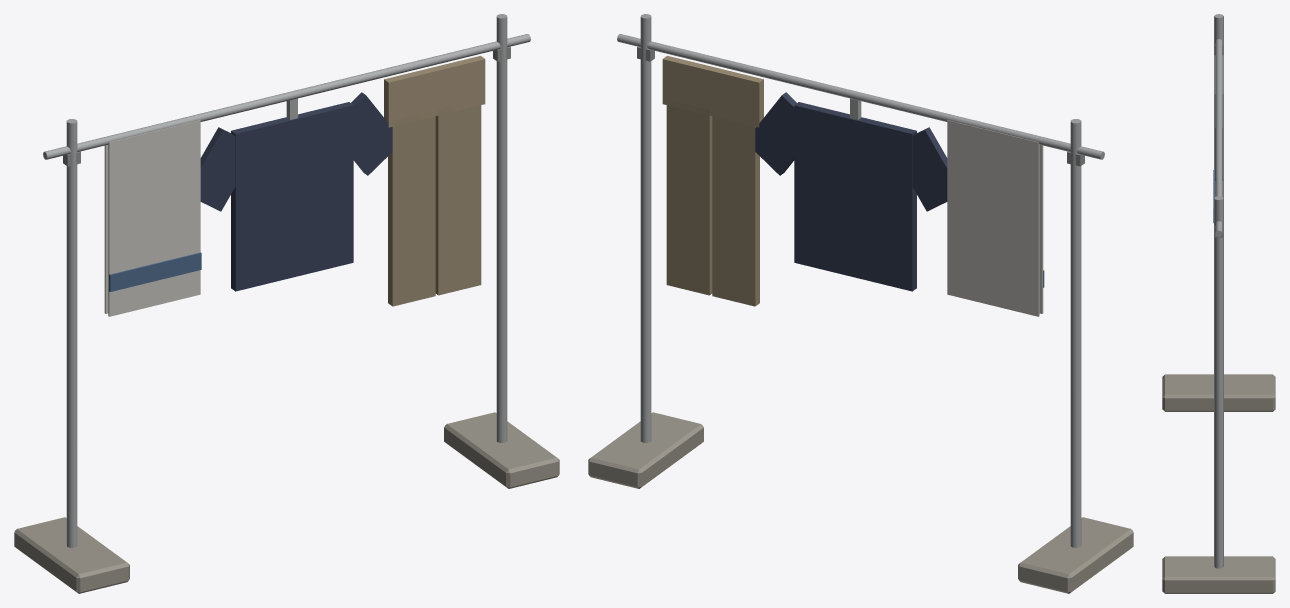
Rendered from prop_laundry_01.glb.
3 views of the same model, side by side, from view 1: azimuth 30°, elevation 25°; view 2: azimuth 150°, elevation 25°; view 3: azimuth 270°, elevation 25° (orthographic). The views are drawn at different scales.
Visible parts, largest first — view 1: prop_laundry_01; view 2: prop_laundry_01; view 3: prop_laundry_01.
Boxes of the visible parts, <box> form: prop_laundry_01: <box>14,14,559,593</box>; prop_laundry_01: <box>588,14,1133,593</box>; prop_laundry_01: <box>1162,14,1275,593</box>.
Bounding box in the file's own units: 1.8 × 1.58 × 0.42.
